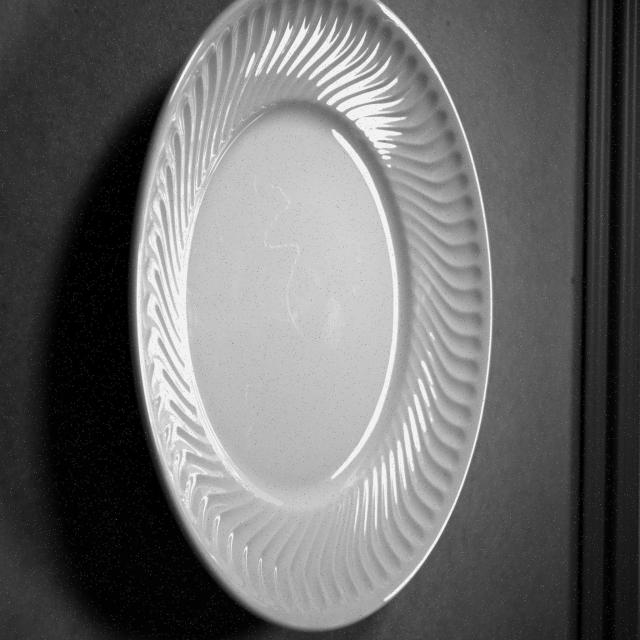plate: (131, 0, 491, 630)
